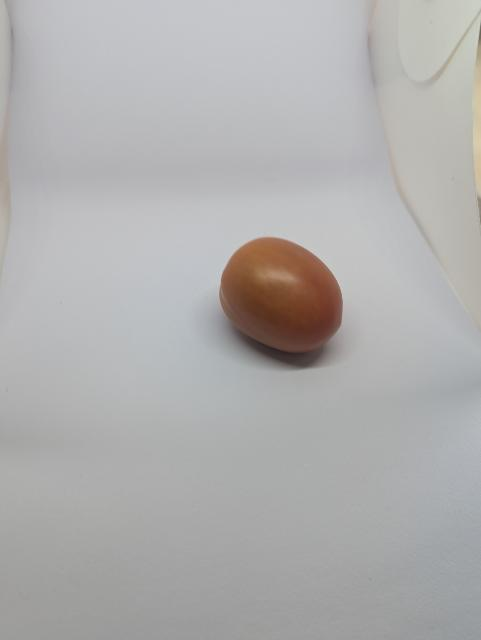red: (214, 227, 357, 368)
